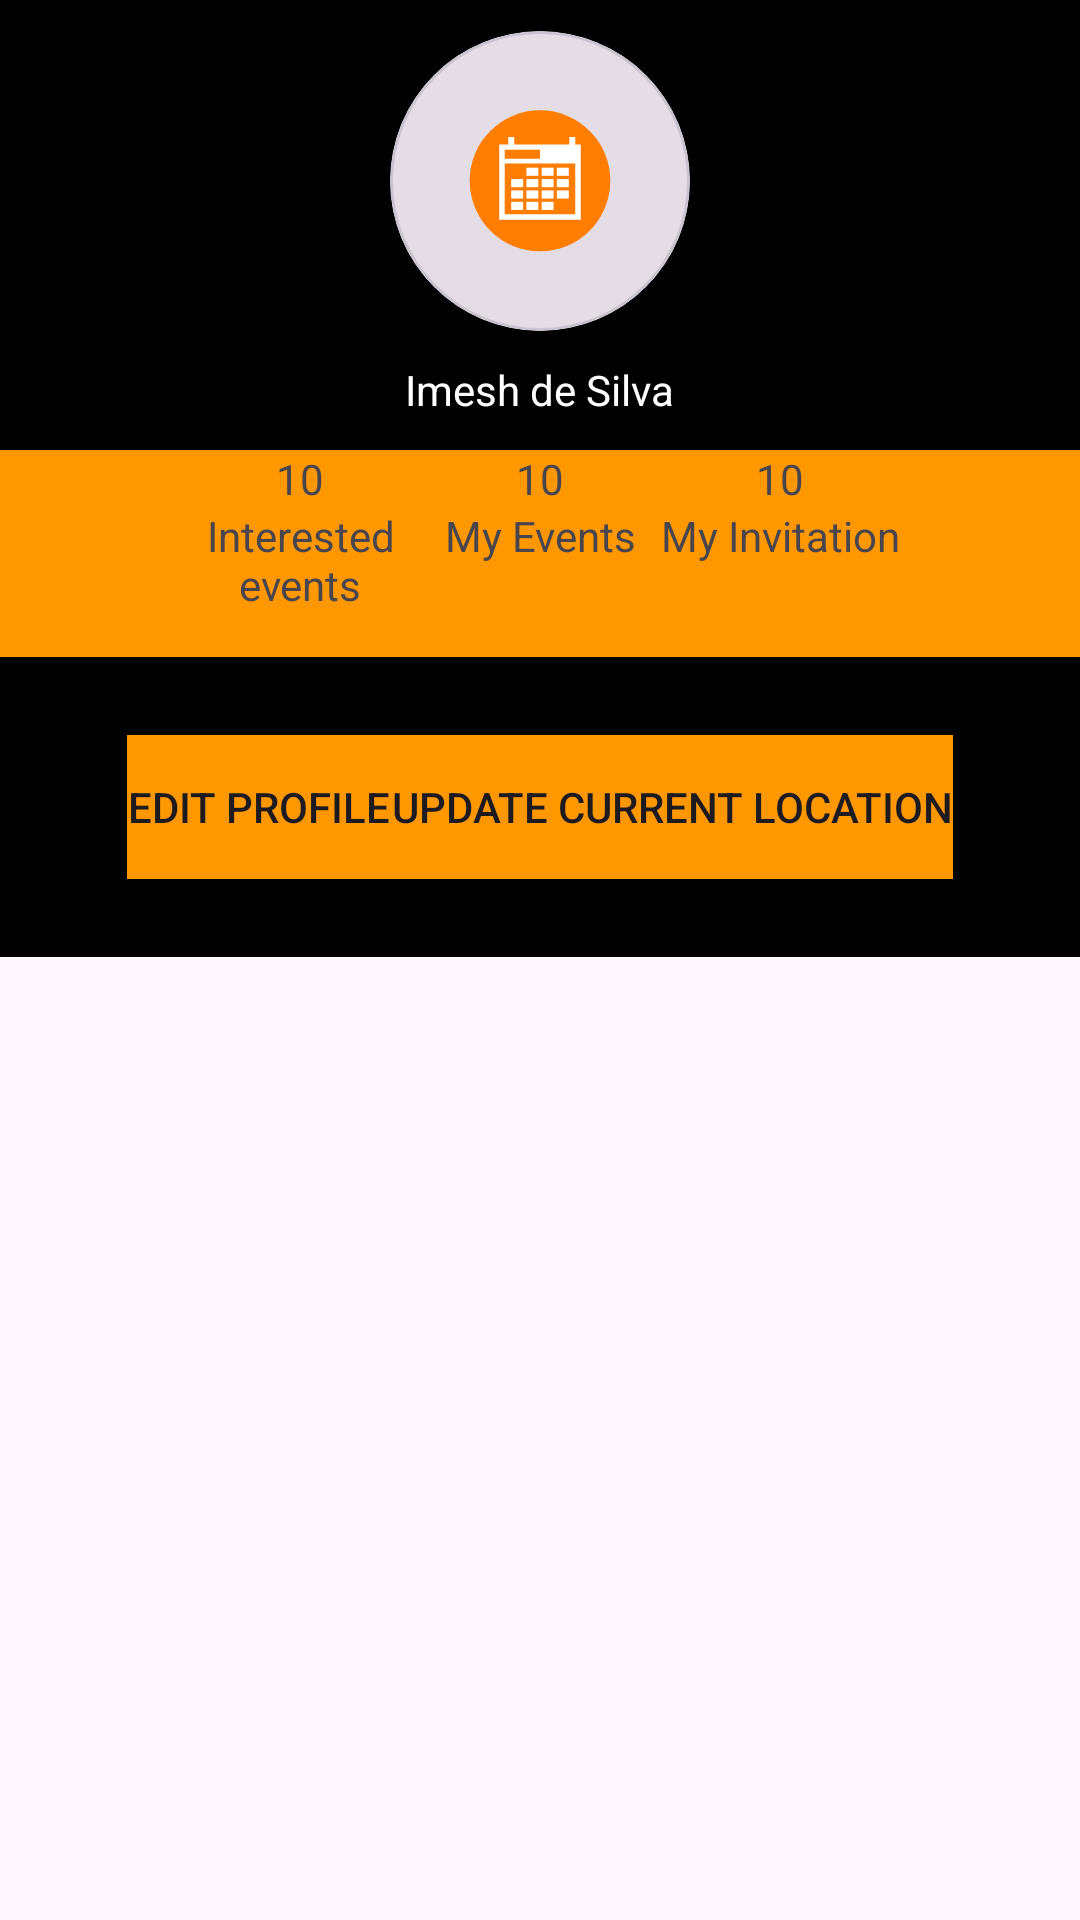

Screen size 1080×1920. Icon name, then its box in pixels as [x1,y1,x2,y2]:
calender: [469,110,611,252]
